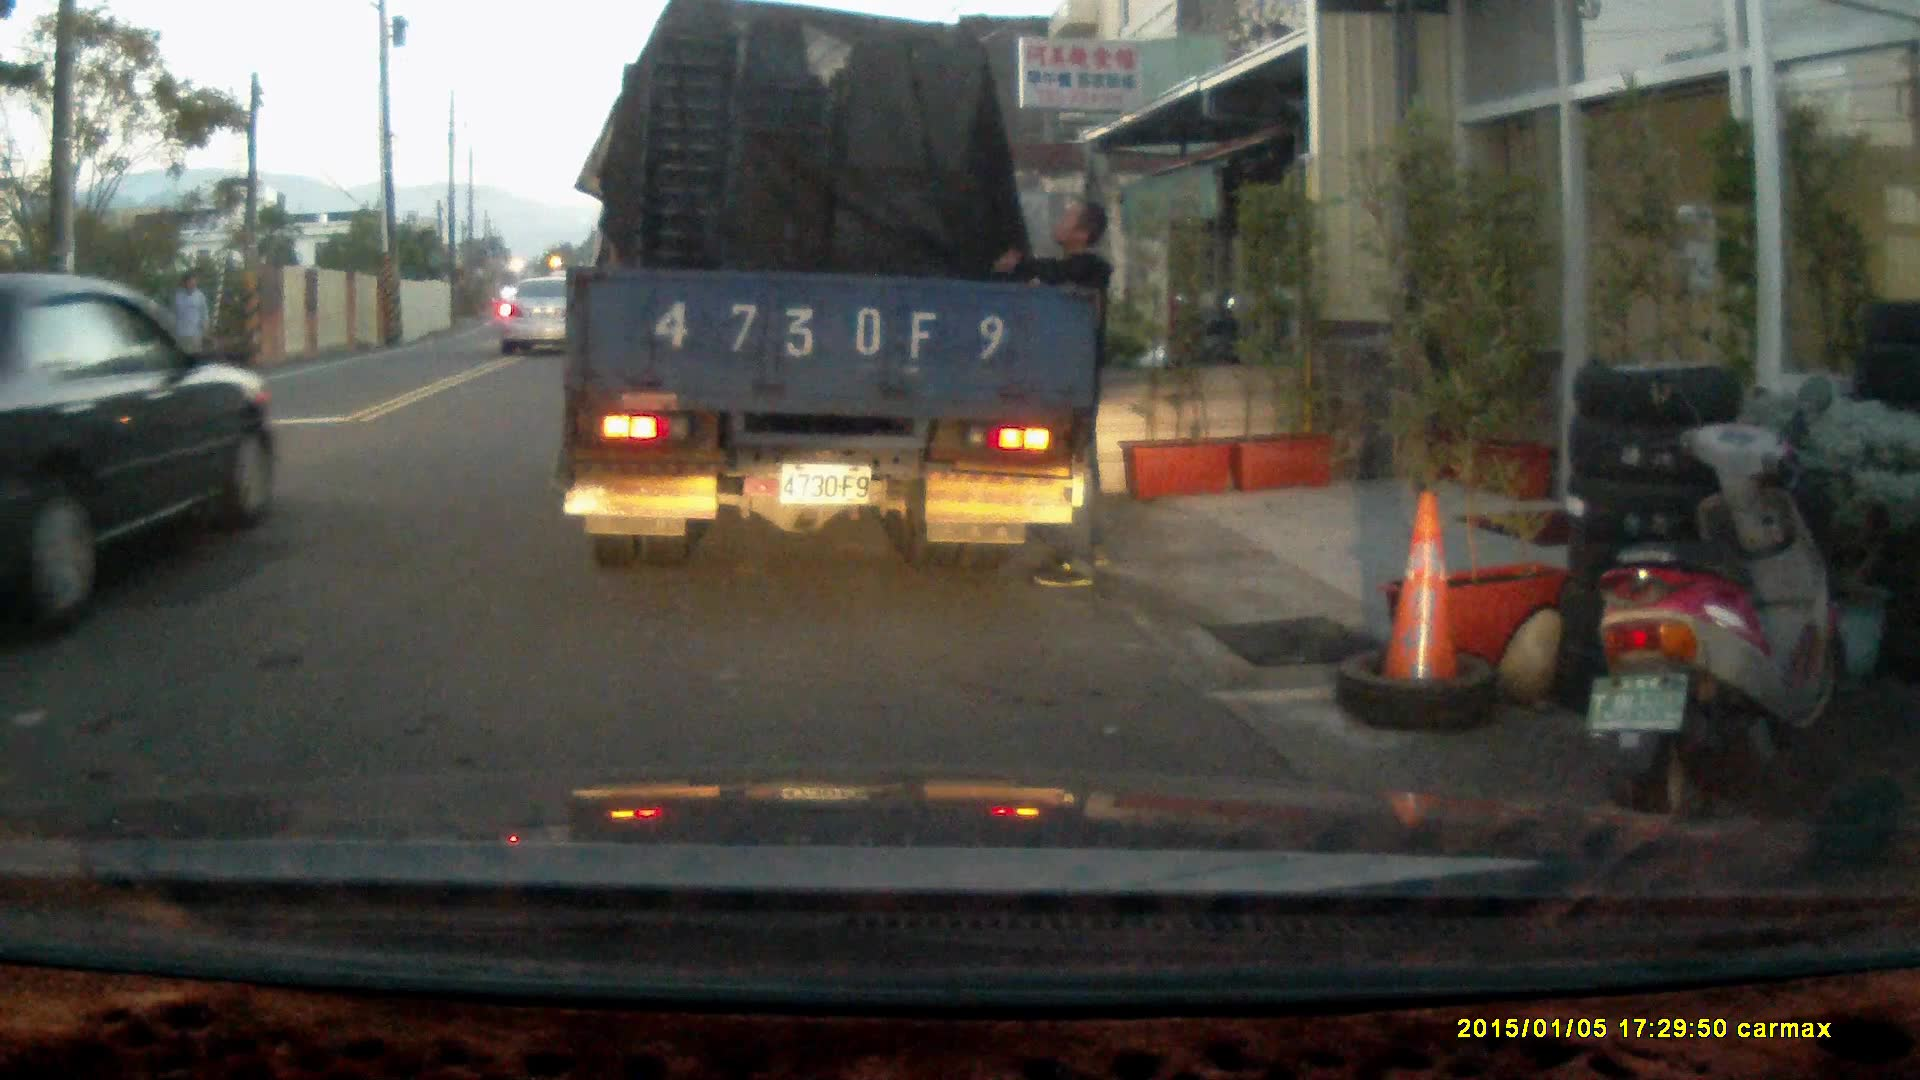pedestrian: (989, 196, 1112, 589), (165, 270, 212, 393)
vehicle: (565, 23, 1097, 572), (1, 270, 285, 645), (496, 270, 592, 354)
